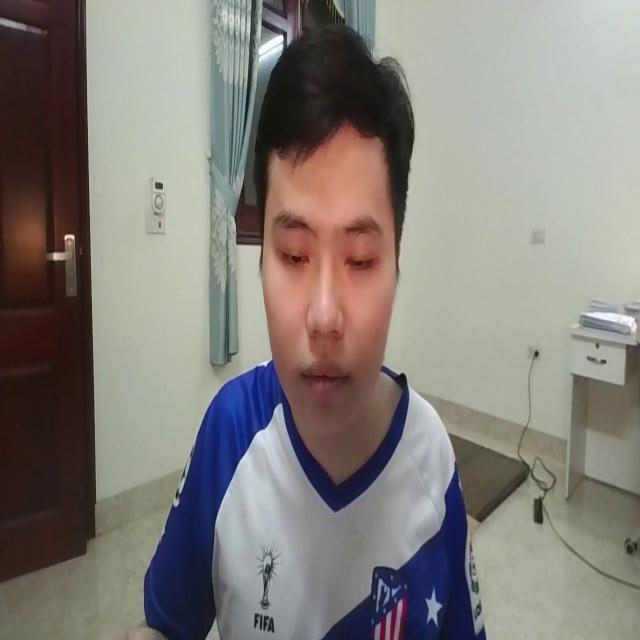student: (118, 14, 508, 640)
